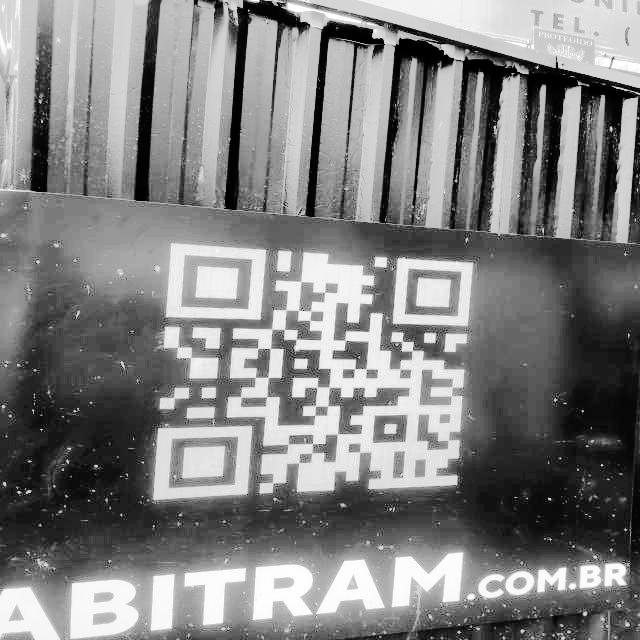qr_code: (152, 242, 473, 500)
